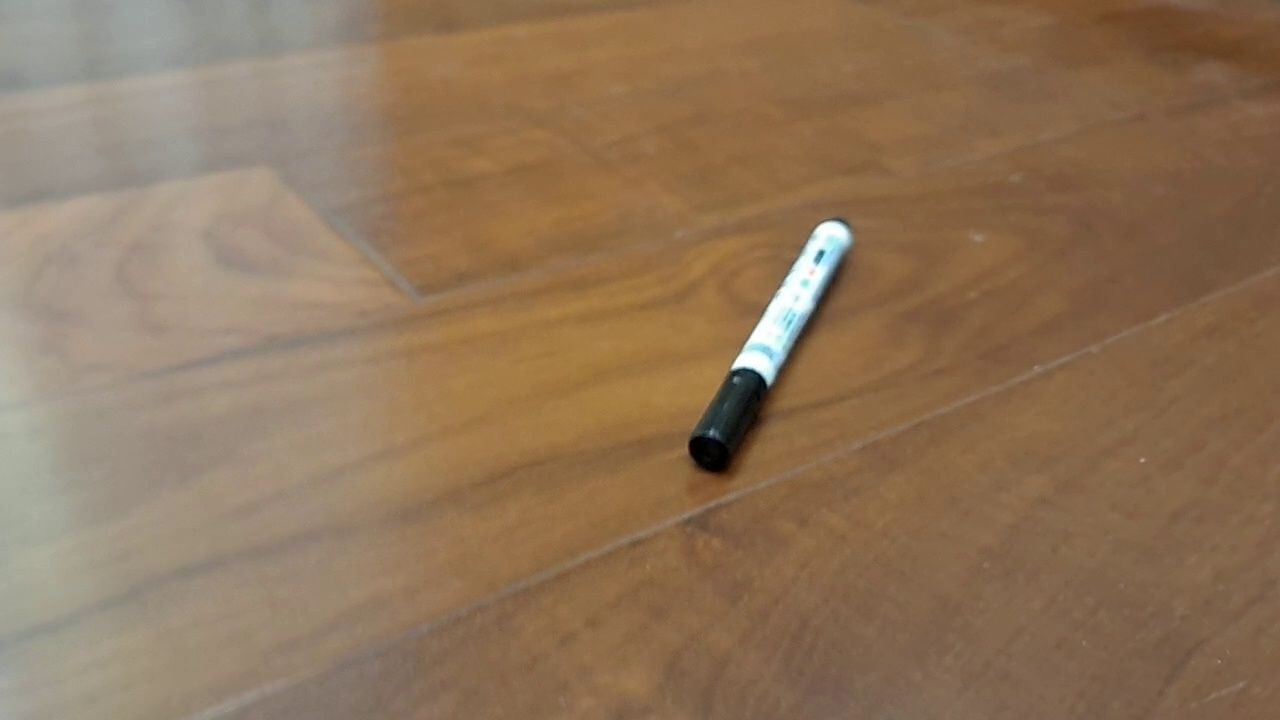pen: (688, 217, 855, 474)
